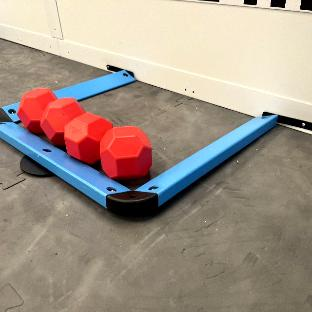V5_RED: (17, 88, 152, 184)
